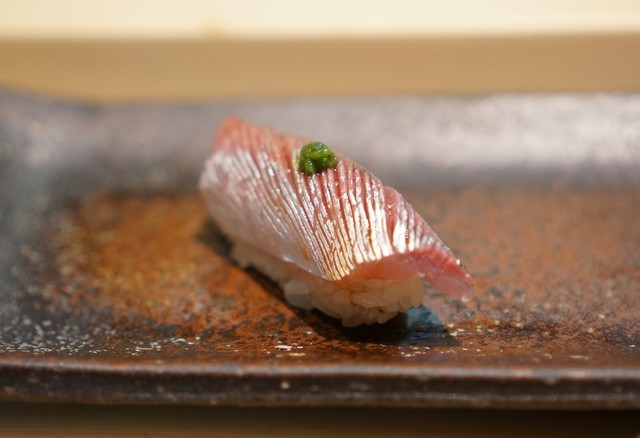spotted-shad: (195, 113, 476, 333)
